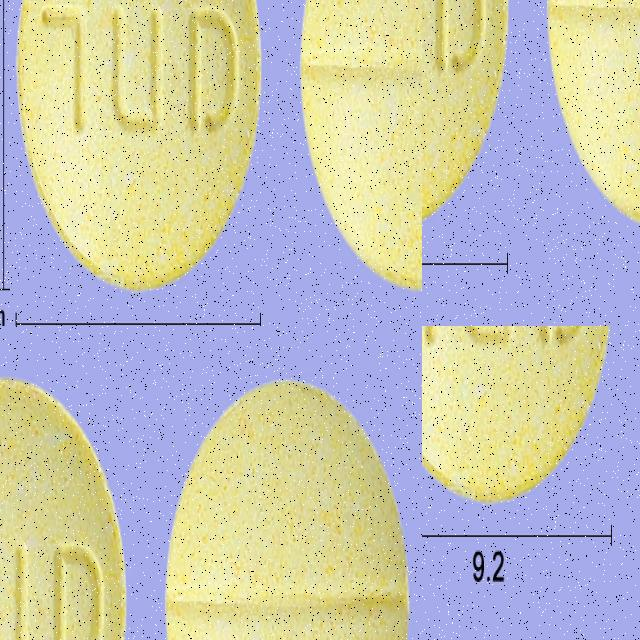Doxymedi: (422, 326, 614, 505)
Immuthera: (164, 377, 411, 640), (0, 369, 130, 640)
Lexacin: (422, 0, 547, 225)
Moxiclen Tab-625mg: (16, 23, 312, 292)
